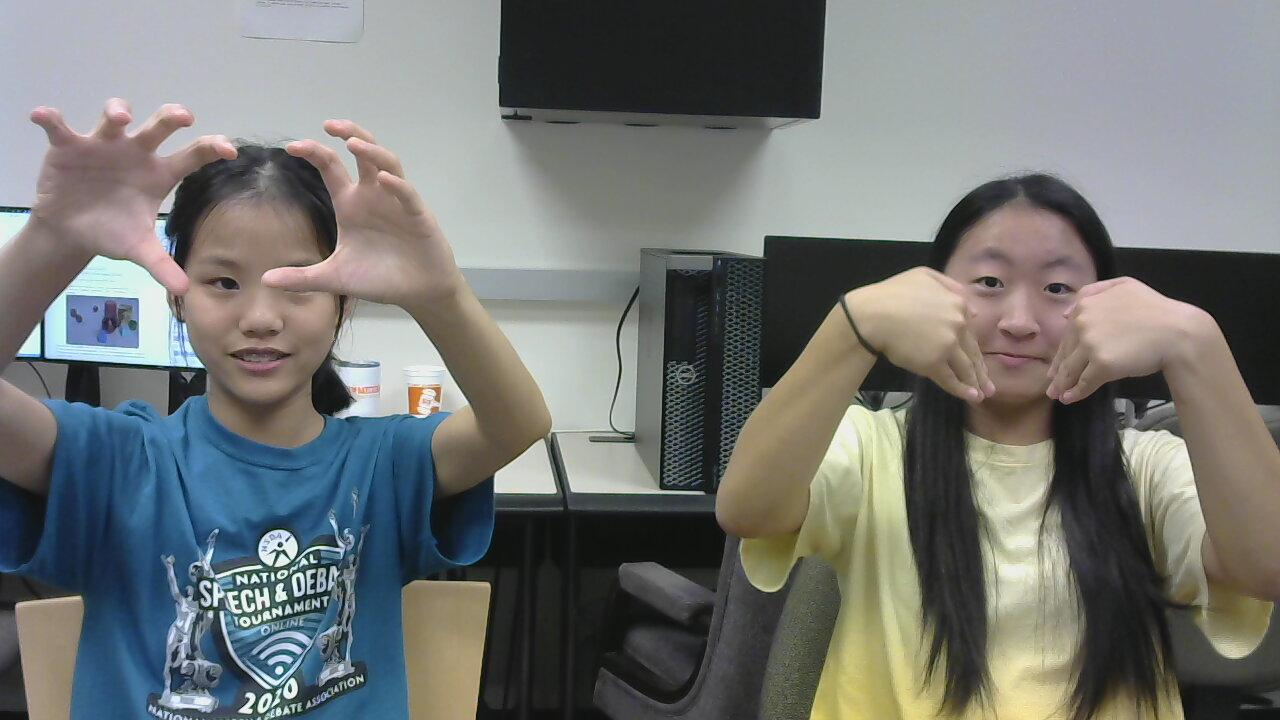hands: (26, 82, 229, 318), (266, 122, 462, 321), (838, 262, 1004, 423), (1038, 267, 1212, 420)
